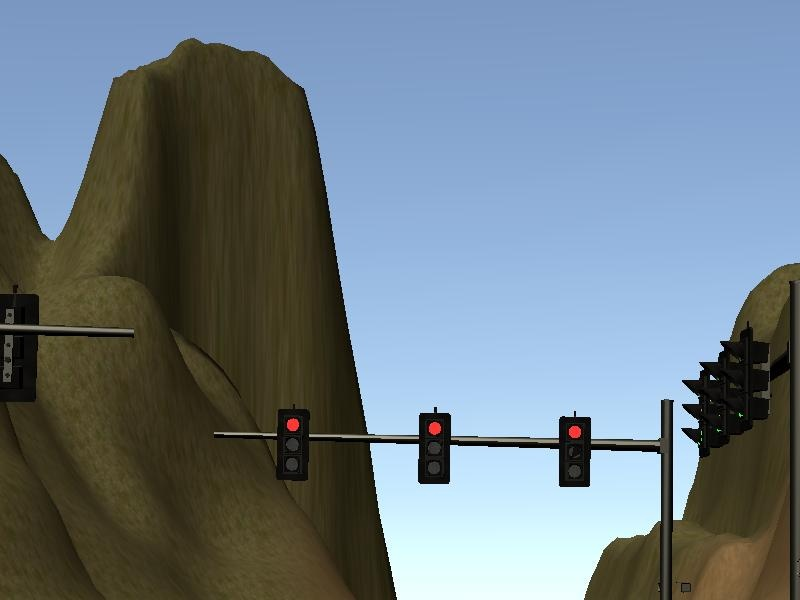red: (413, 404, 454, 486), (555, 410, 596, 492), (272, 404, 313, 483)
